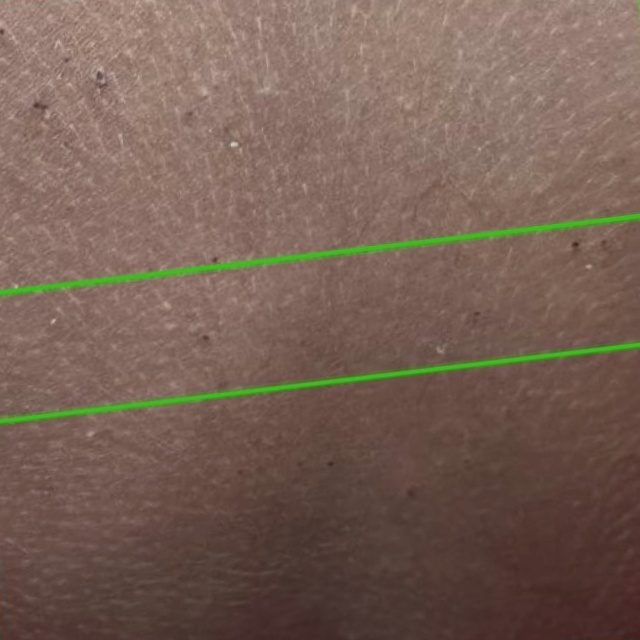Contact Dermatitis: (0, 215, 639, 639), (0, 0, 639, 422)
